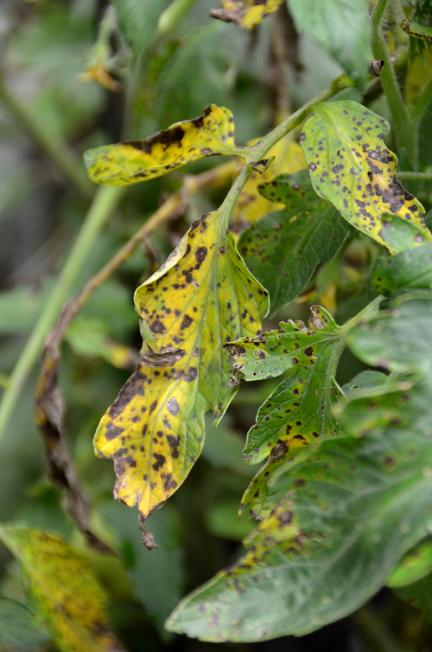Tomato Early blight leaf: (98, 206, 249, 511), (293, 97, 432, 250), (80, 108, 244, 183)
